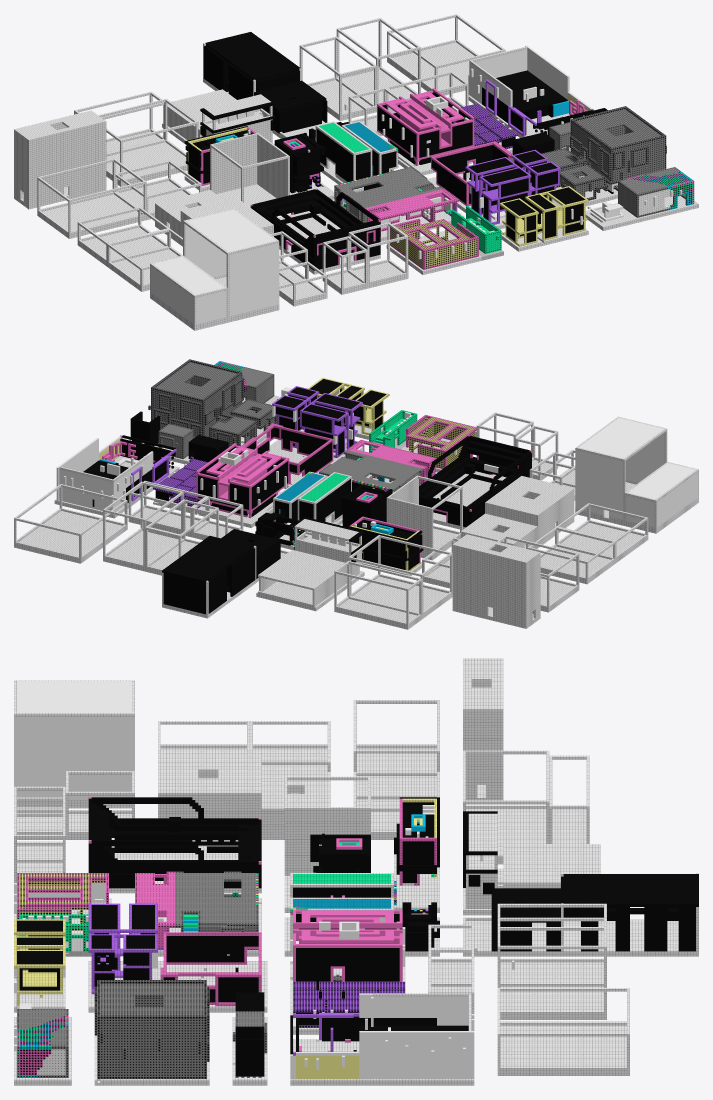
File: Gangnam-v2.glb
3 renders of one model, top to bottom at view 1: azimuth 30°, elevation 25°; view 2: azimuth 150°, elevation 25°; view 3: azimuth 270°, elevation 25°, orthographic. The views are drawn at different scales.
Parts seen in each view (by area): view 1: solid-voxels_35.005; view 2: solid-voxels_35.005; view 3: solid-voxels_35.005.
Part boxes in pixels (x1,y1,x2,y2): solid-voxels_35.005: [14, 14, 698, 330]; solid-voxels_35.005: [14, 359, 698, 629]; solid-voxels_35.005: [14, 658, 698, 1085].
Size of the model in its own units: 137 by 18 by 119.
Materials: 1 (1 with a texture image).
